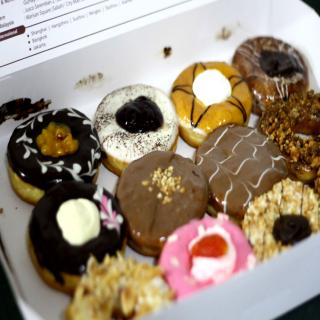Doughnut: (8, 37, 320, 320), (117, 148, 209, 254)
